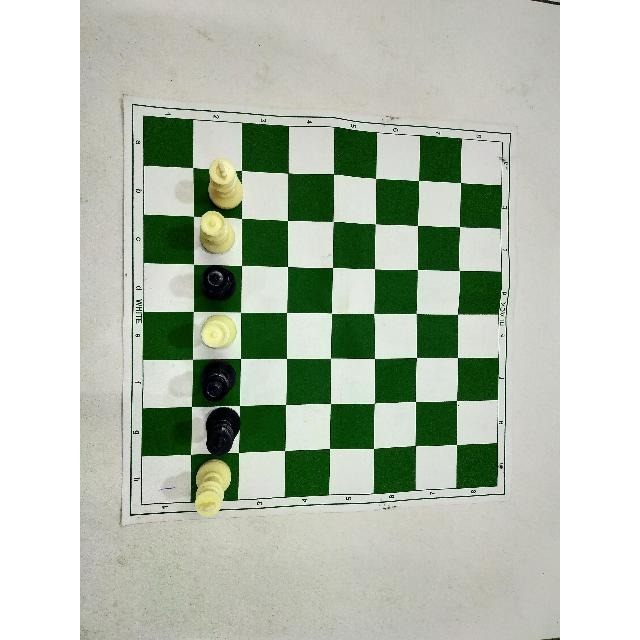black-king: (201, 408, 246, 460), (206, 408, 243, 460)
black-queen: (196, 357, 240, 409), (195, 265, 243, 311), (198, 357, 238, 406), (201, 265, 237, 305)
white-king: (186, 458, 238, 527), (189, 459, 236, 523), (201, 154, 253, 210), (203, 157, 250, 211)
white-queen: (191, 205, 240, 256), (193, 307, 240, 355), (192, 208, 238, 255), (197, 310, 241, 356)
